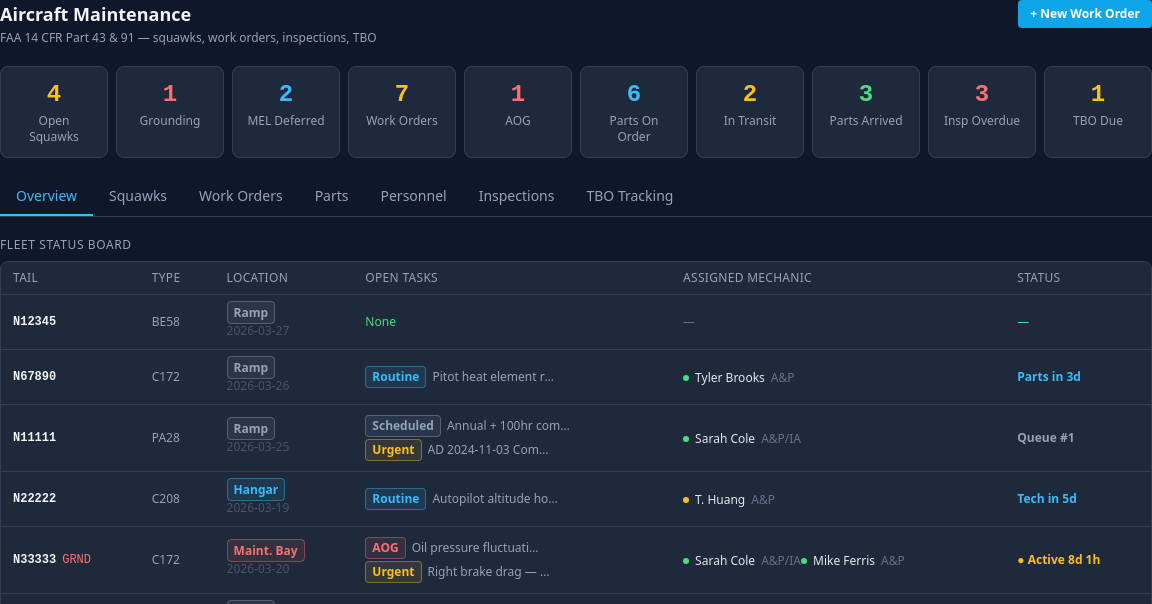
<Maintenance /> Parts tab › shows installed parts when filter = installed
This screenshot has width=1152, height=604.
Step 1. Click the tab "Parts" → (332, 197), box [299,178,364,216]
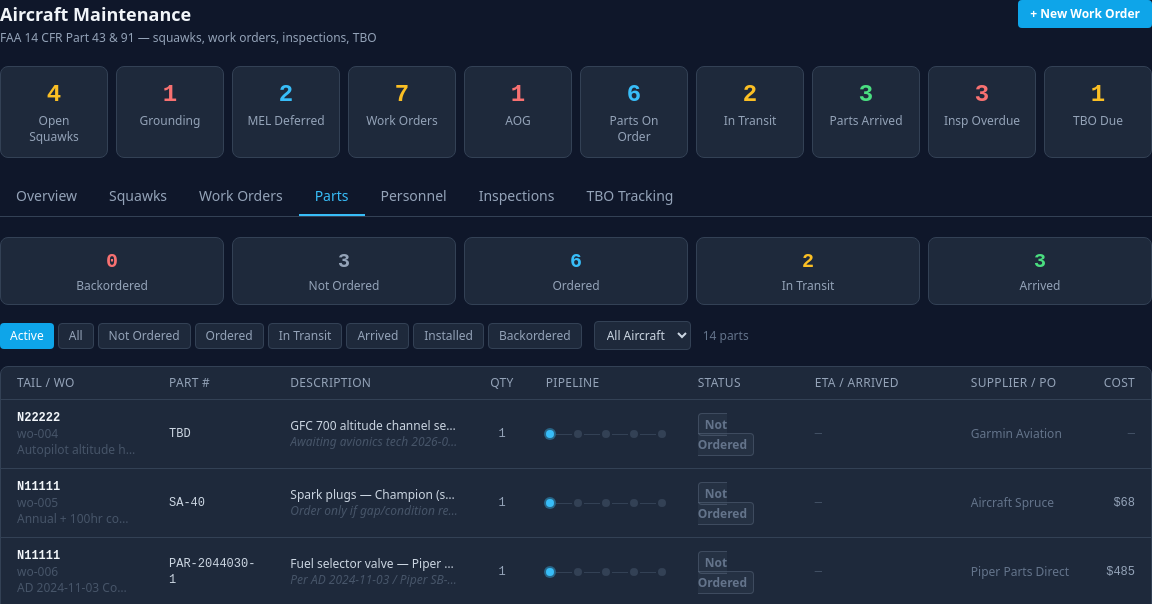
Step 2. Click the button "installed" → (449, 336), box [413,322,484,348]
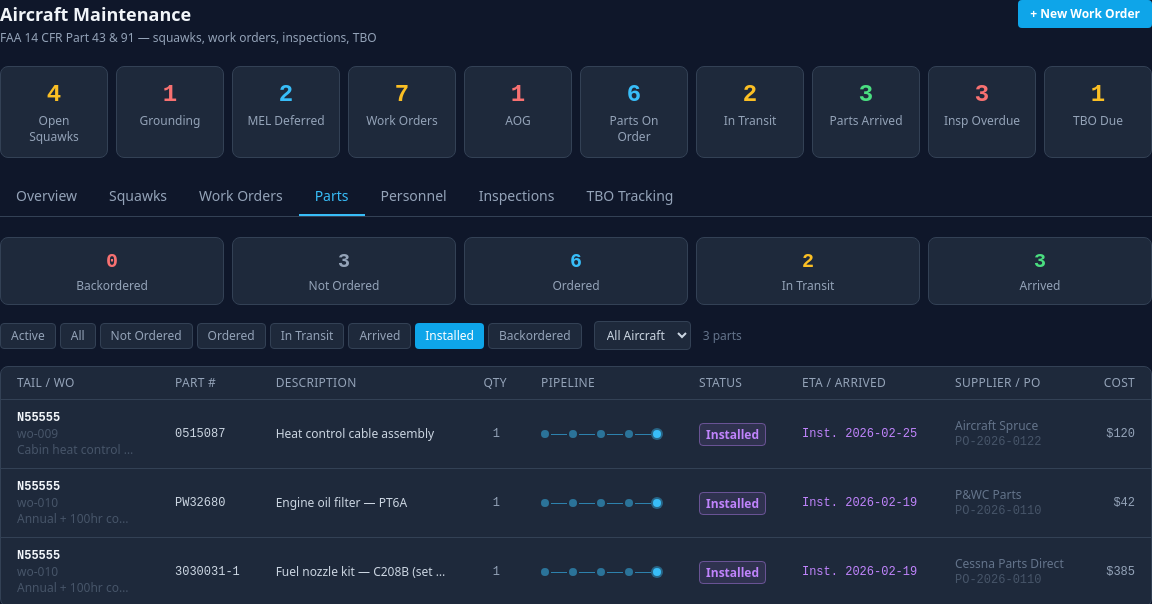
Expected: the row with test id "parts-tab-row-prt-015" is shown, [1,400,1151,468]
Expected: the row with test id "parts-tab-row-prt-016" is shown, [1,468,1151,538]
